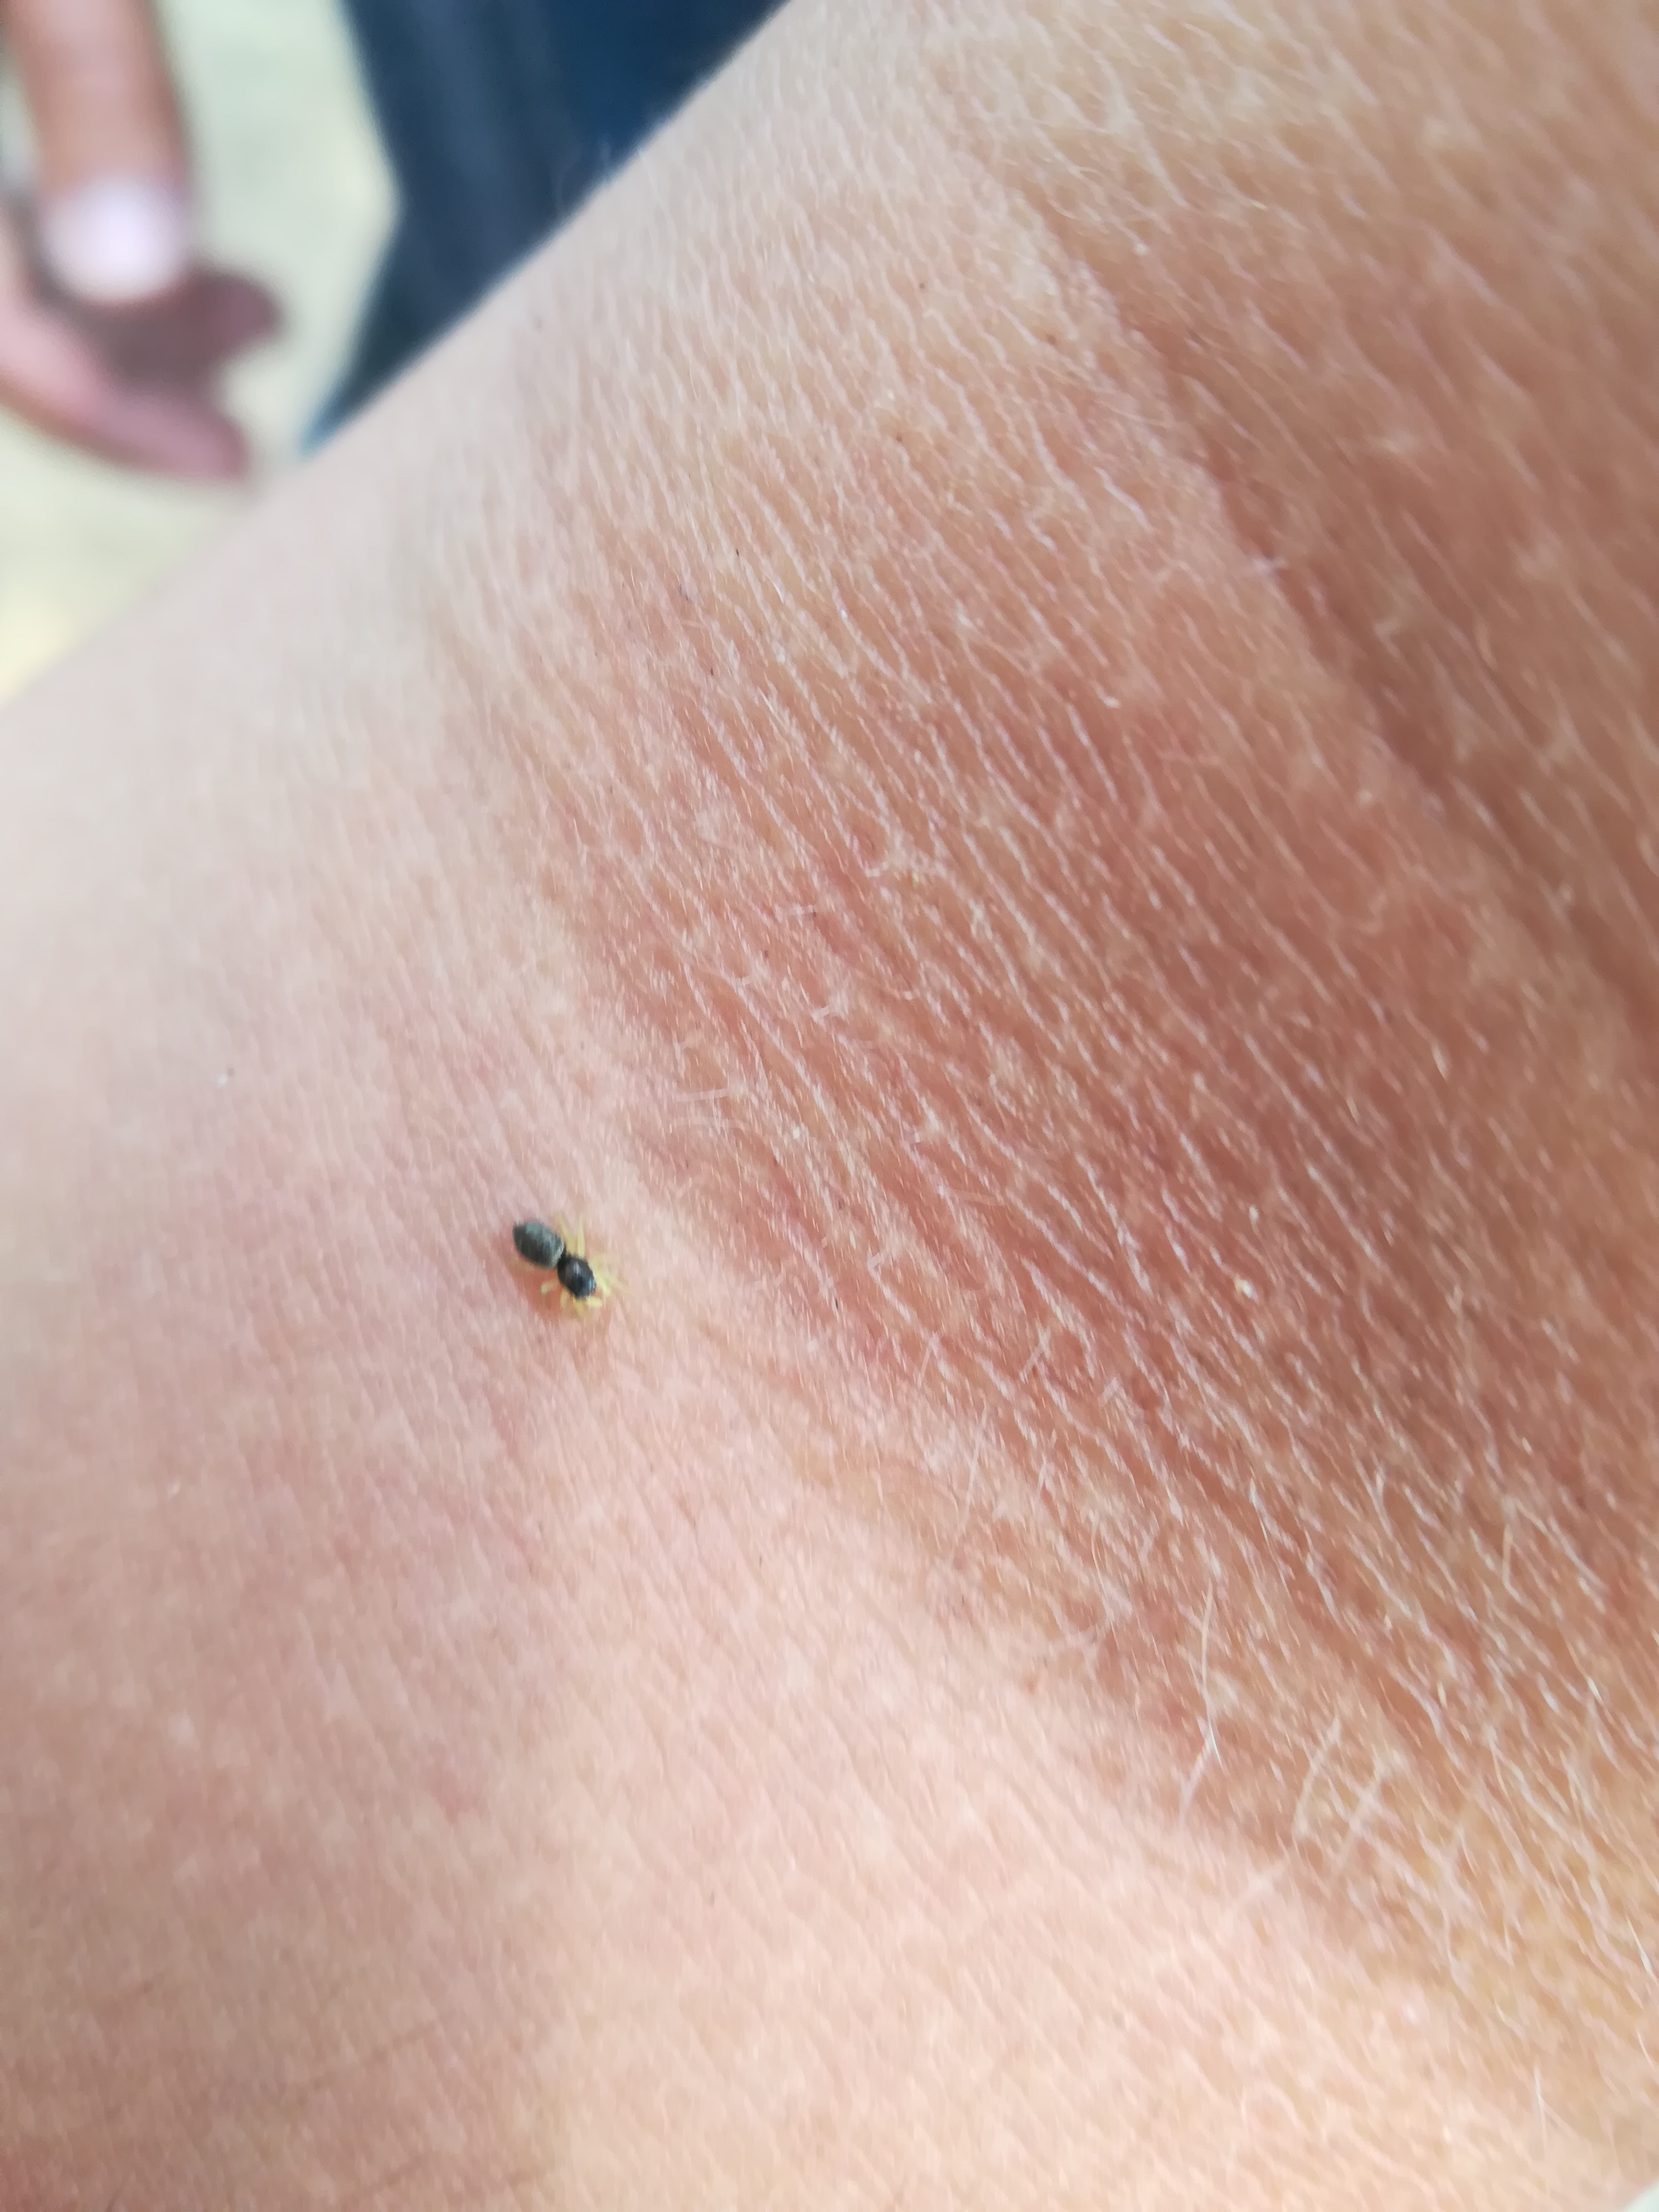spider: (471, 1174, 664, 1366)
